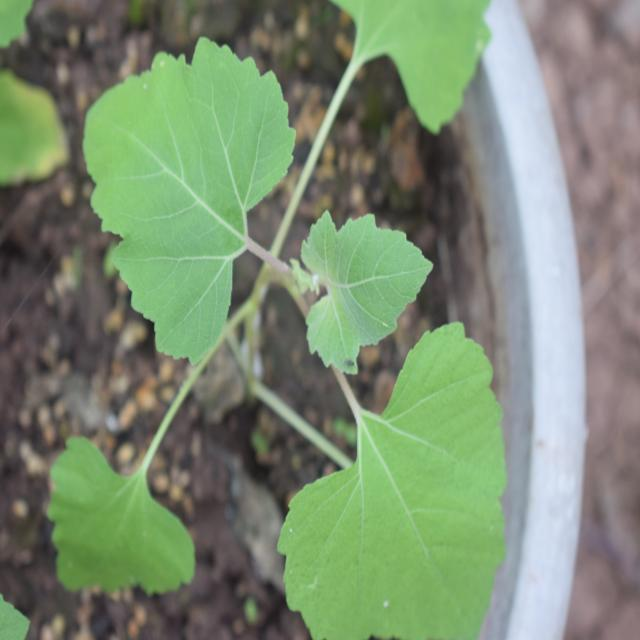cocklebur: (36, 16, 514, 583)
